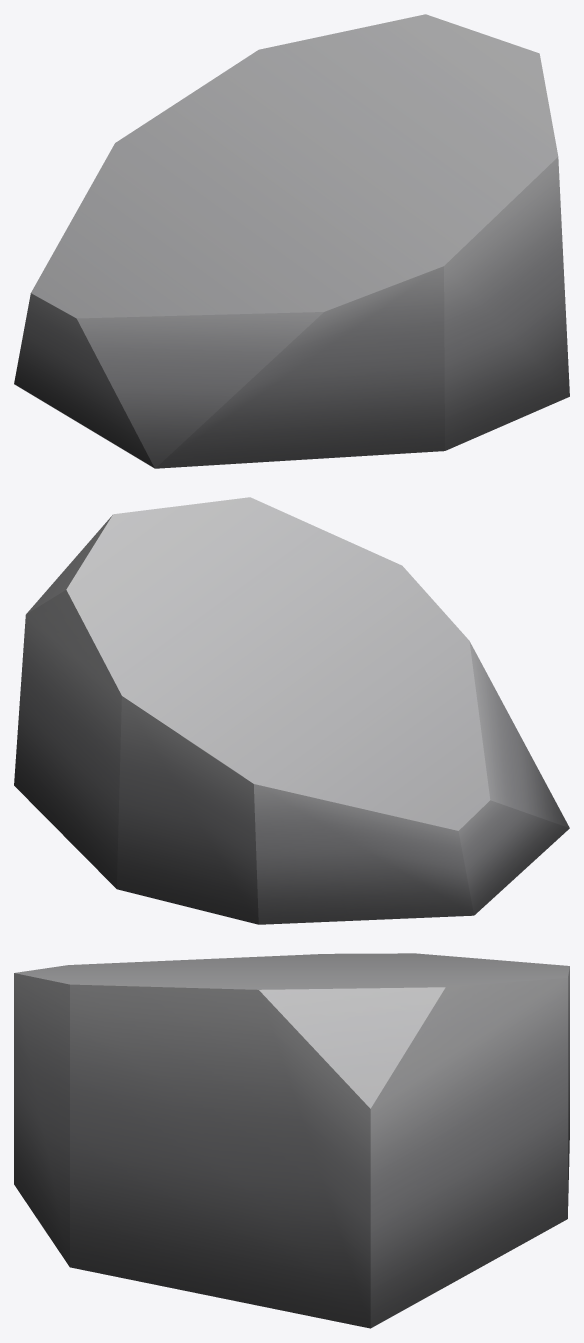
The model's file is RockSml-01.FBX.
The picture shows the model from 3 angles, top to bottom: view 1: azimuth 30°, elevation 25°; view 2: azimuth 150°, elevation 25°; view 3: azimuth 270°, elevation 25°; orthographic projection. The views are drawn at different scales.
Visible parts, largest first — view 1: RockSml-01; view 2: RockSml-01; view 3: RockSml-01.
Boxes of the visible parts, box(x1,y1,x2,y2) form: RockSml-01: box(14, 14, 569, 468); RockSml-01: box(14, 497, 569, 924); RockSml-01: box(14, 953, 569, 1328).
Bounding box in the file's own units: 70.26 × 35.19 × 57.81.
1 material, 1 textured.
